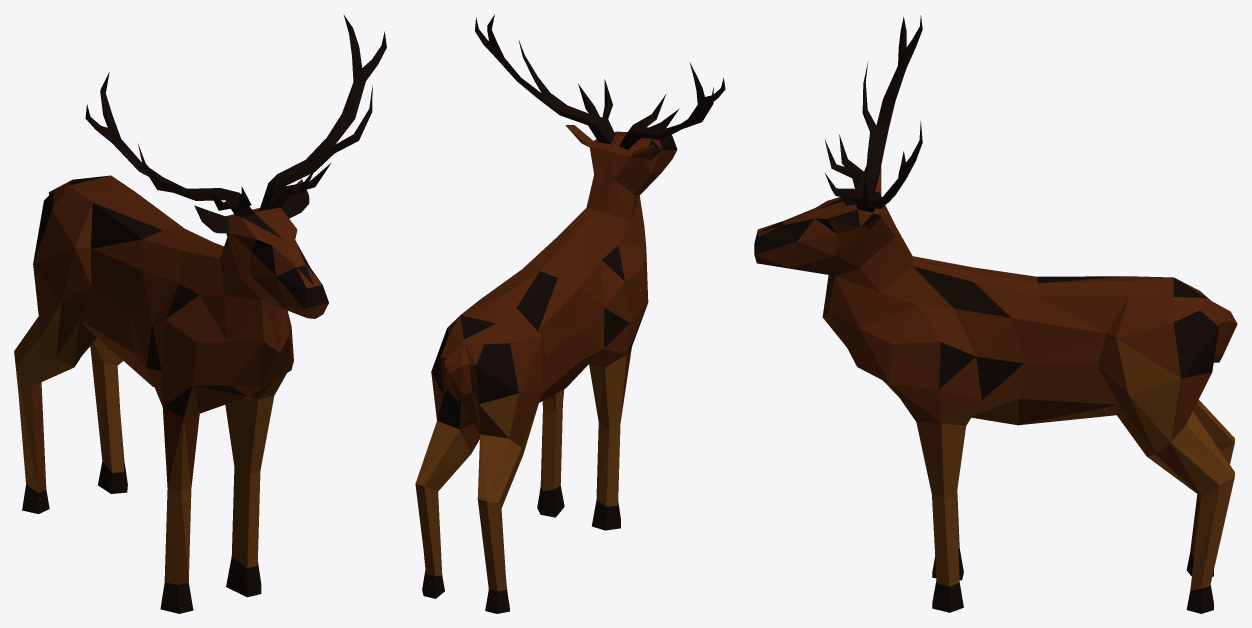
The model's file is Animal_Deer_M3.fbx.
3 views of the same model, side by side, from view 1: azimuth 30°, elevation 25°; view 2: azimuth 150°, elevation 25°; view 3: azimuth 270°, elevation 25° (orthographic). The views are drawn at different scales.
Visible parts, largest first — view 1: Animal_Deer_M3; view 2: Animal_Deer_M3; view 3: Animal_Deer_M3.
Part boxes in pixels (left/top/right/bottom): Animal_Deer_M3: left=14, top=14, right=386, bottom=613; Animal_Deer_M3: left=415, top=14, right=725, bottom=613; Animal_Deer_M3: left=754, top=15, right=1237, bottom=613.
Bounding box in the file's own units: 194 × 352 × 294.
